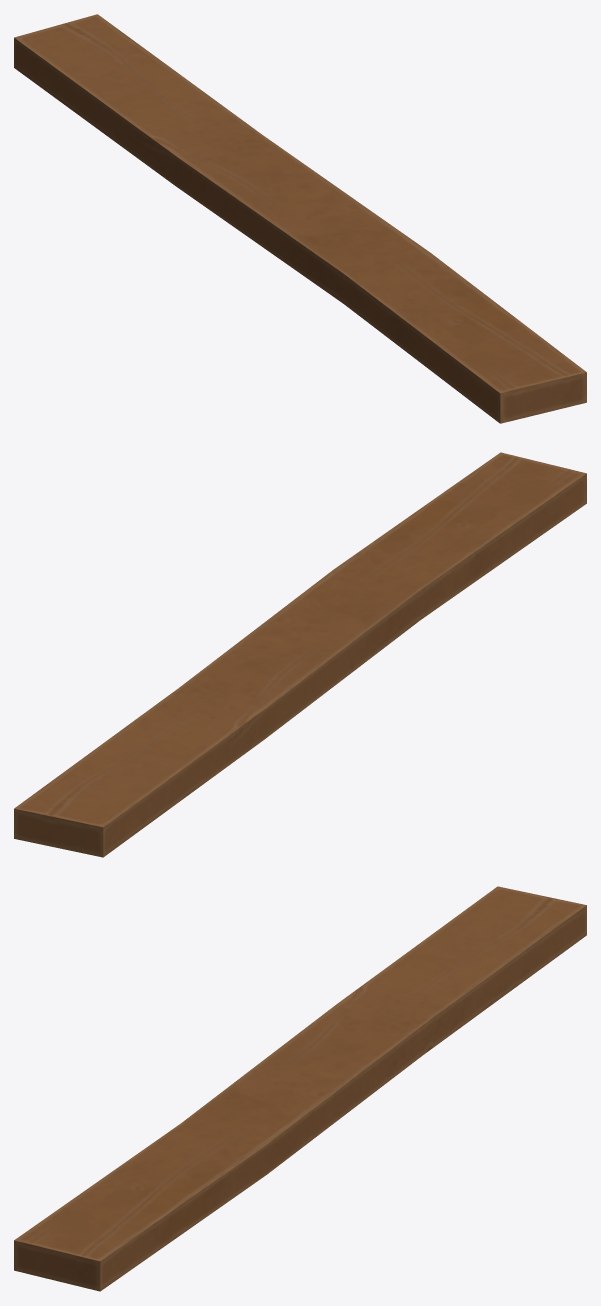
Rendered from SM_Props_Wood_02.glb.
3 views of the same model, one above another, from view 1: azimuth 30°, elevation 25°; view 2: azimuth 150°, elevation 25°; view 3: azimuth 330°, elevation 25° (orthographic).
Parts seen in each view (by area): view 1: SM_Props_Wood_02; view 2: SM_Props_Wood_02; view 3: SM_Props_Wood_02.
Part boxes in pixels (bbox=[...]): SM_Props_Wood_02: bbox=[14, 14, 586, 423]; SM_Props_Wood_02: bbox=[14, 452, 586, 857]; SM_Props_Wood_02: bbox=[14, 886, 586, 1291].
Bounding box in the file's own units: 0.2228 × 0.0701 × 2.05.
1 material, 1 textured.
